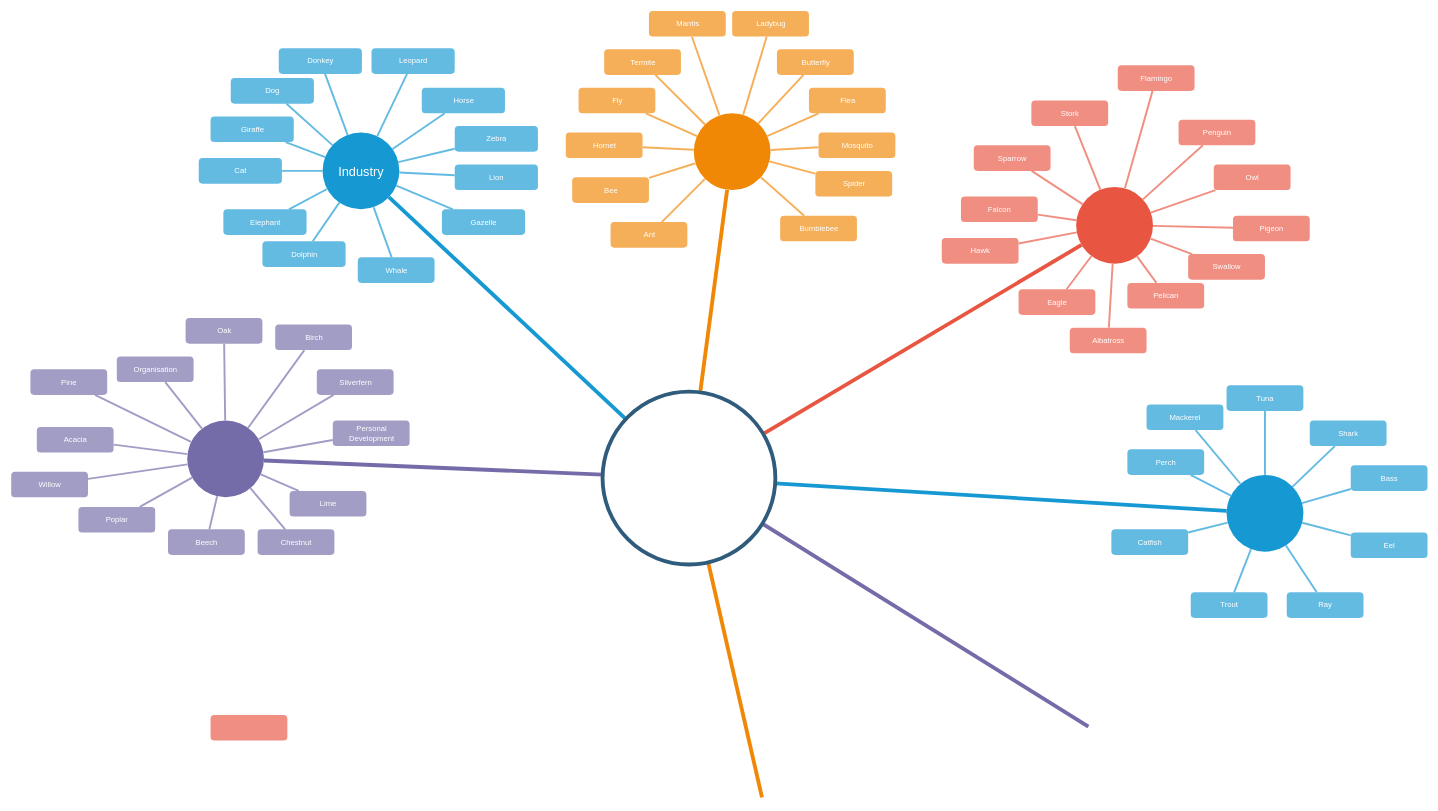
Some shapes in this 1438 by 811 pixel diagram are drawn without their labels. Here are the shapes that lost their labels. From the top down, the centre of each, then its label:
At [731,151]: "Academia".
At [1114,225]: "Universities".
At [225,458]: "NGO".
At [688,477]: "AI@Greece".
At [1264,513]: "State".
At [248,727]: "Tulip".
